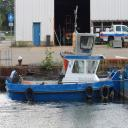tugboat: (4, 31, 122, 108)
